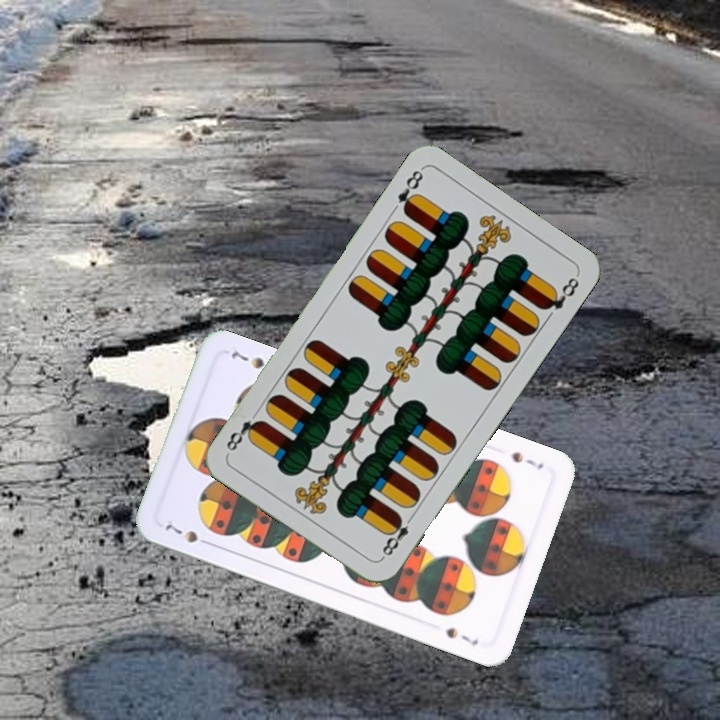E8: (377, 510, 417, 562), (393, 164, 426, 218)
S7: (160, 519, 215, 549), (507, 447, 546, 472)
